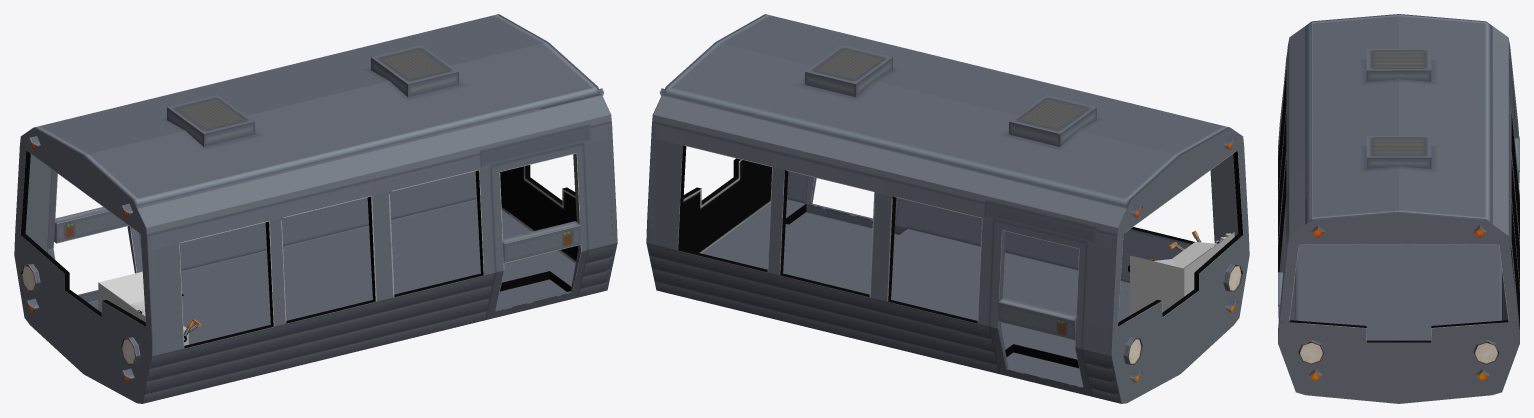
The model's file is monorail_head.obj.
3 renders of one model, left to right at view 1: azimuth 30°, elevation 25°; view 2: azimuth 150°, elevation 25°; view 3: azimuth 270°, elevation 25°, orthographic. The views are drawn at different scales.
Parts seen in each view (by area): view 1: FRAME, vent, DOOR_L, DOOR_R, PANEL; view 2: FRAME, vent, DOOR_R, PANEL, DOOR_L; view 3: FRAME, vent, DOOR_L, DOOR_R, HEADLIGHT_3_0xFFDDAA_LCG_RHL, HEADLIGHT_4_0xFFDDAA_LCG_RHL_FULLBRIGHT, Cylinder.
Part boxes in pixels (bbox=[...]): FRAME: bbox=[14, 14, 617, 403]; vent: bbox=[167, 45, 458, 146]; DOOR_L: bbox=[486, 145, 587, 319]; DOOR_R: bbox=[47, 169, 142, 302]; PANEL: bbox=[98, 271, 188, 345]; FRAME: bbox=[646, 14, 1249, 403]; vent: bbox=[805, 45, 1096, 146]; DOOR_R: bbox=[990, 221, 1091, 396]; PANEL: bbox=[1130, 232, 1234, 315]; DOOR_L: bbox=[806, 176, 899, 233]; FRAME: bbox=[1278, 14, 1519, 403]; vent: bbox=[1366, 48, 1431, 168]; DOOR_L: bbox=[1278, 203, 1291, 330]; DOOR_R: bbox=[1511, 69, 1519, 196]; HEADLIGHT_3_0xFFDDAA_LCG_RHL: bbox=[1475, 342, 1497, 363]; HEADLIGHT_4_0xFFDDAA_LCG_RHL_FULLBRIGHT: bbox=[1300, 342, 1322, 363]; Cylinder: bbox=[1298, 339, 1499, 364].
Bounding box in the file's own units: 7.22 × 3.27 × 3.58.
